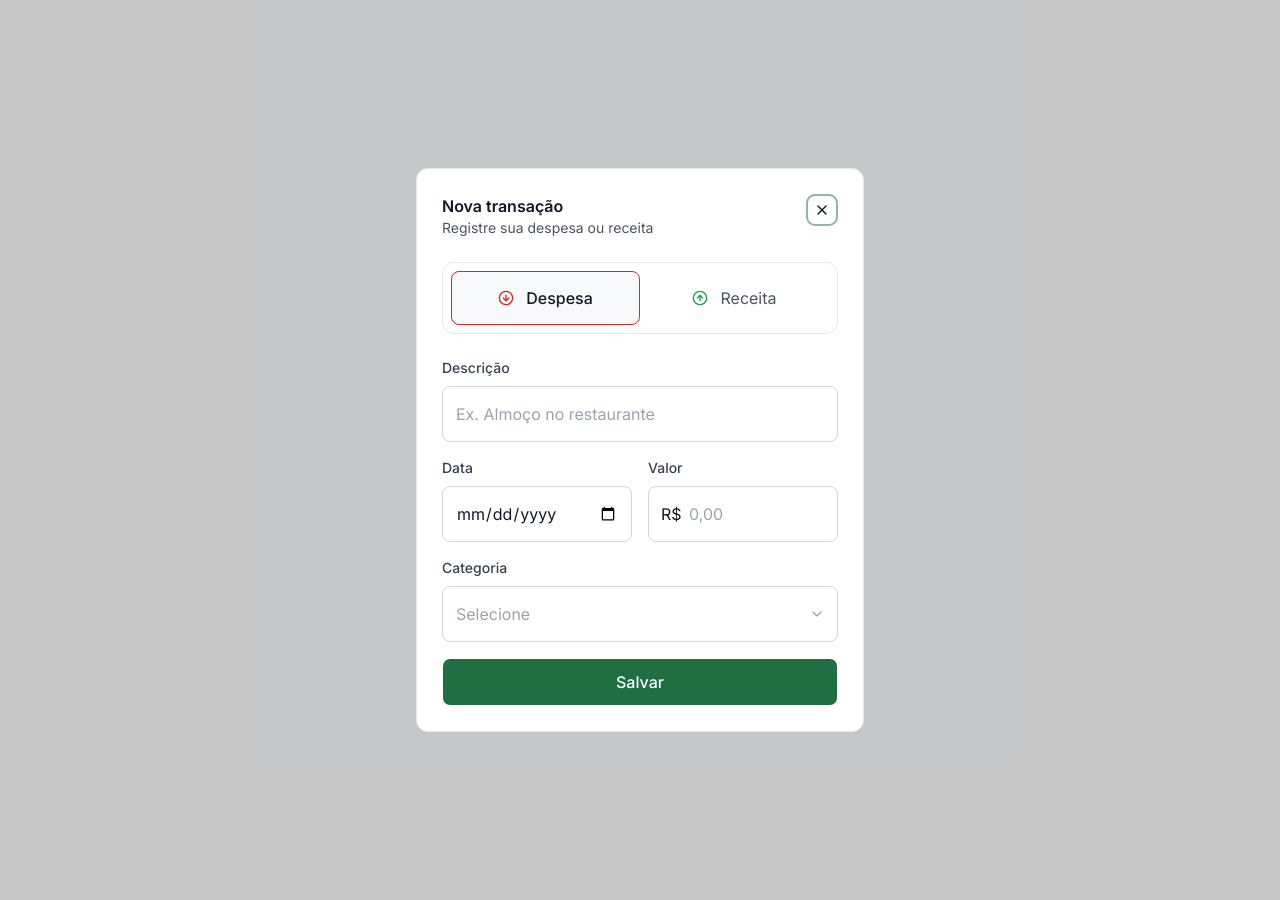
Scenario: TransactionDialog › exibe erro de validacao ao salvar sem descricao
Step 1. Click the button "Salvar" → {"x": 640, "y": 682}, box [442,658,838,706]
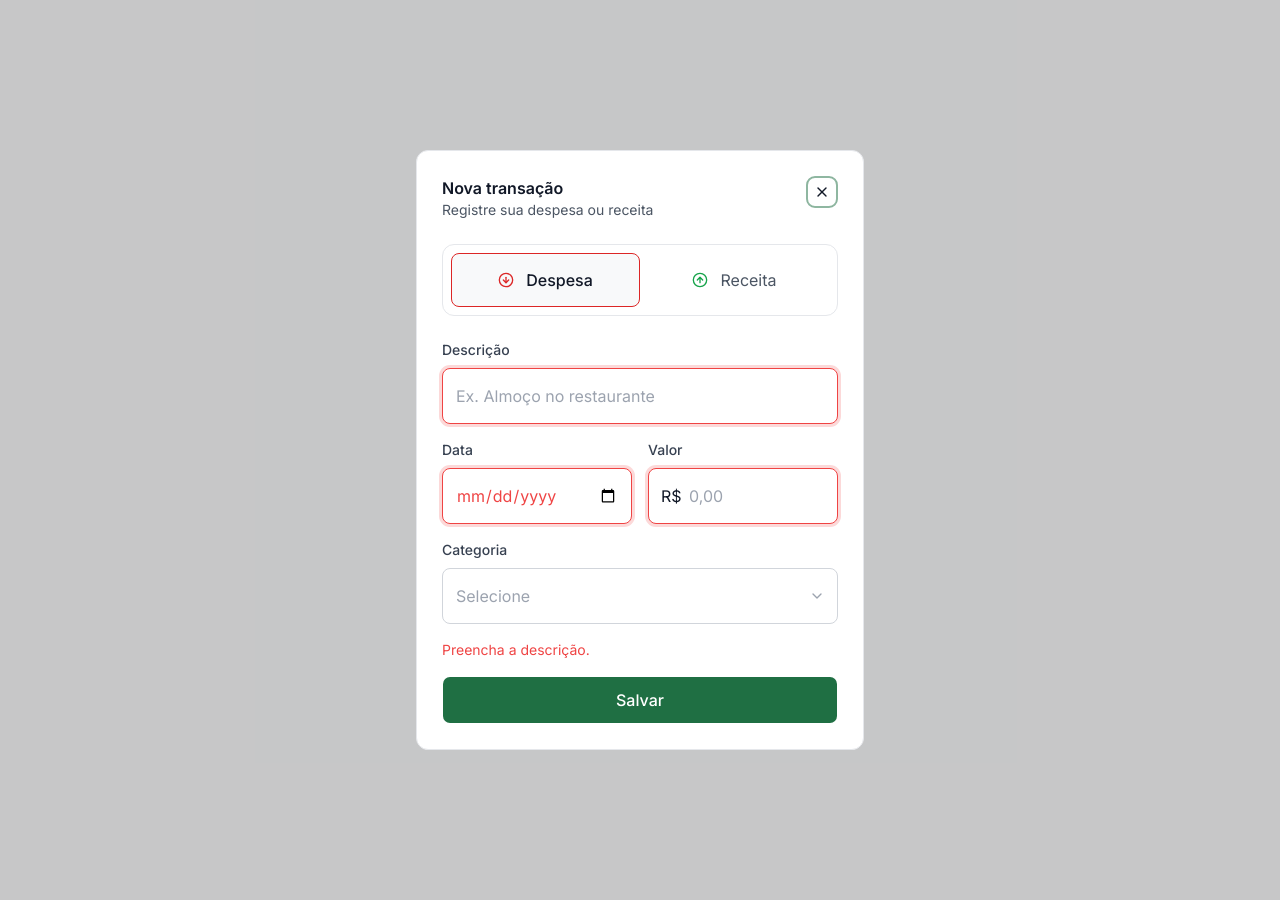
Check: the message reads "Preencha a descrição.", box [442,641,590,658]
